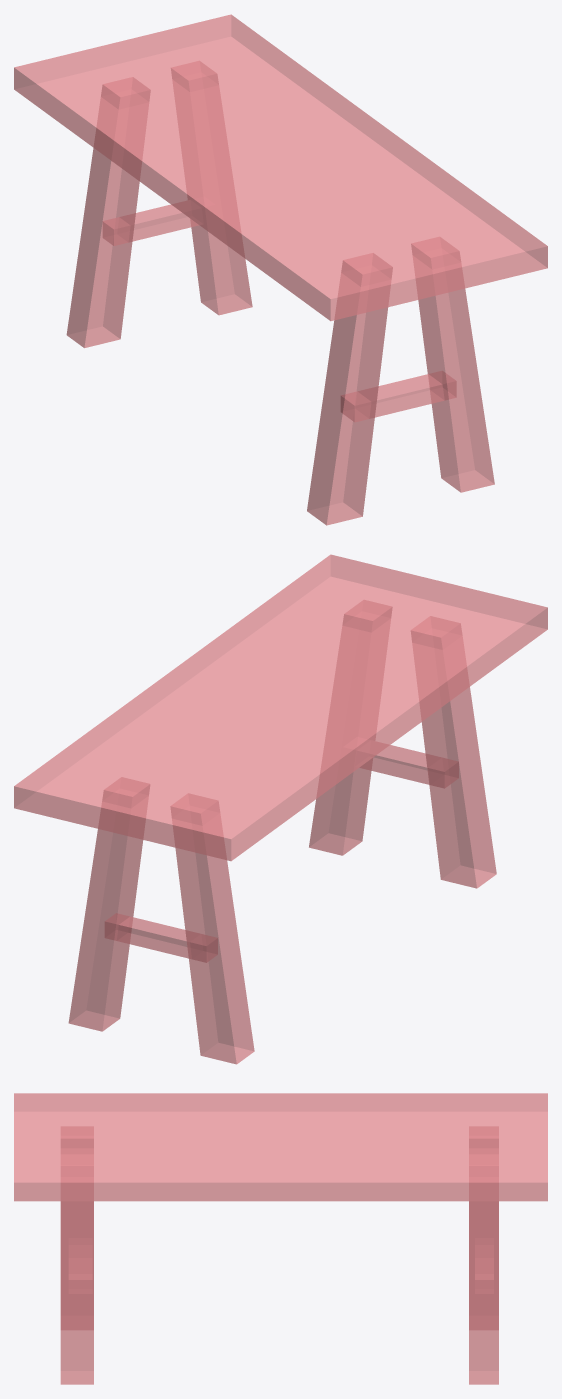
File: aws_KitchenTable_01_collision.DAE
The picture shows the model from 3 angles, top to bottom: view 1: azimuth 30°, elevation 25°; view 2: azimuth 150°, elevation 25°; view 3: azimuth 270°, elevation 25°; orthographic projection. The views are drawn at different scales.
Parts seen in each view (by area): view 1: aws_KitchenTable_01_collision; view 2: aws_KitchenTable_01_collision; view 3: aws_KitchenTable_01_collision.
Boxes of the visible parts, bbox=[...] form: aws_KitchenTable_01_collision: bbox=[14, 14, 547, 525]; aws_KitchenTable_01_collision: bbox=[14, 554, 547, 1064]; aws_KitchenTable_01_collision: bbox=[14, 1093, 547, 1384].
Bounding box in the file's own units: 72.11 × 182 × 80.
